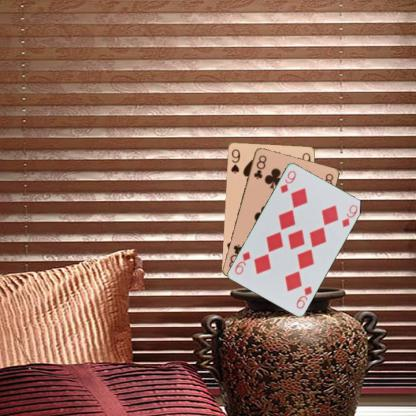8c: (250, 153, 268, 180)
9d: (277, 168, 297, 194), (294, 283, 313, 310)
9s: (228, 146, 241, 175)
